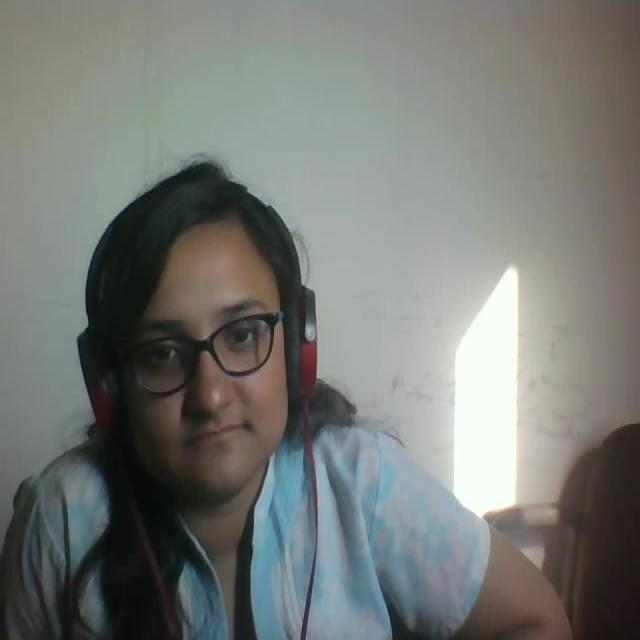Engaged: (58, 152, 390, 518)
